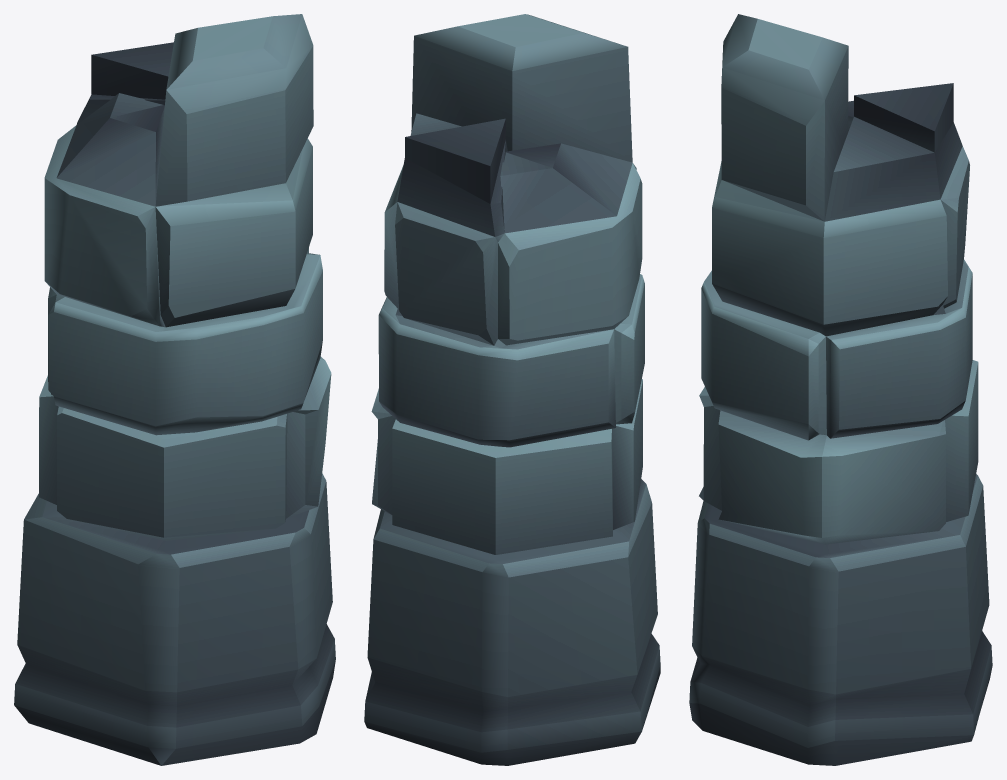
The model's file is Modular_Dungeon_Pillar_Hex_Broken_Bottom.fbx.
The picture shows the model from 3 angles, left to right: view 1: azimuth 30°, elevation 25°; view 2: azimuth 150°, elevation 25°; view 3: azimuth 270°, elevation 25°; orthographic projection. The views are drawn at different scales.
Visible parts, largest first — view 1: Pillar_Hex_Broken_Bottom; view 2: Pillar_Hex_Broken_Bottom; view 3: Pillar_Hex_Broken_Bottom.
Part boxes in pixels (x1,y1,x2,y2): Pillar_Hex_Broken_Bottom: (14,14,335,765); Pillar_Hex_Broken_Bottom: (364,14,660,765); Pillar_Hex_Broken_Bottom: (689,14,992,765).
Bounding box in the file's own units: 2.57 × 5.71 × 2.36.
Materials: 1 (1 with a texture image).
